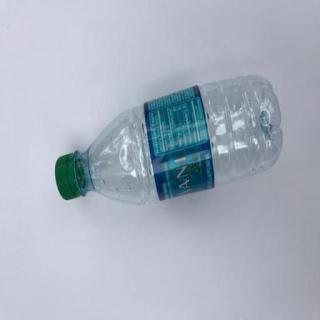Plastic-bottle: (55, 74, 285, 206)
